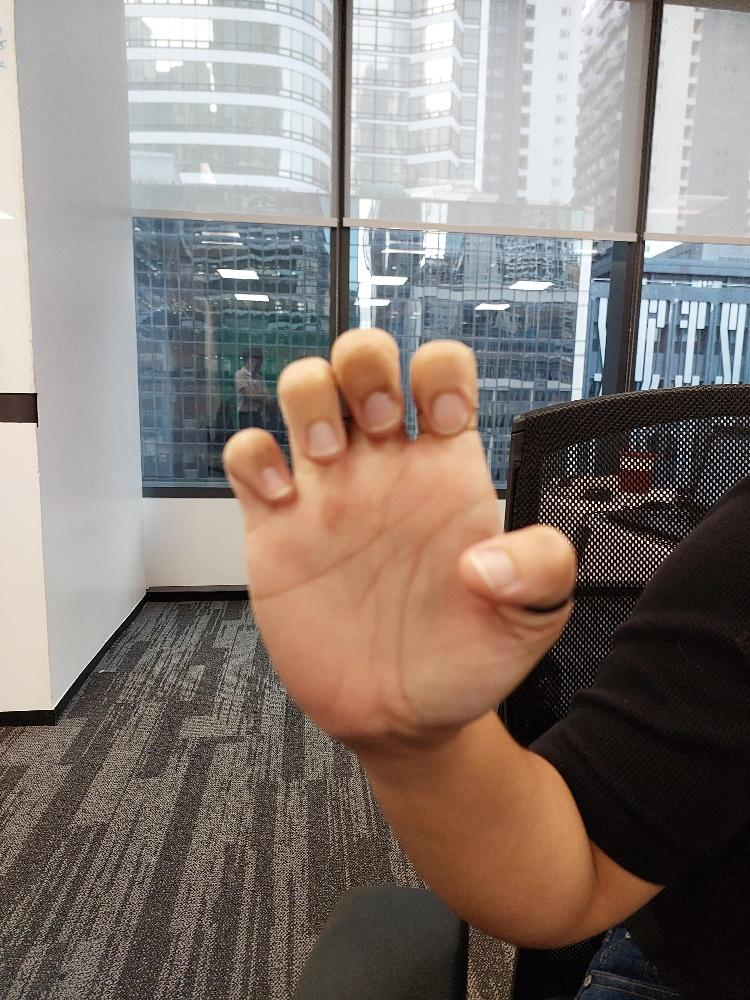e: (220, 321, 580, 754)
